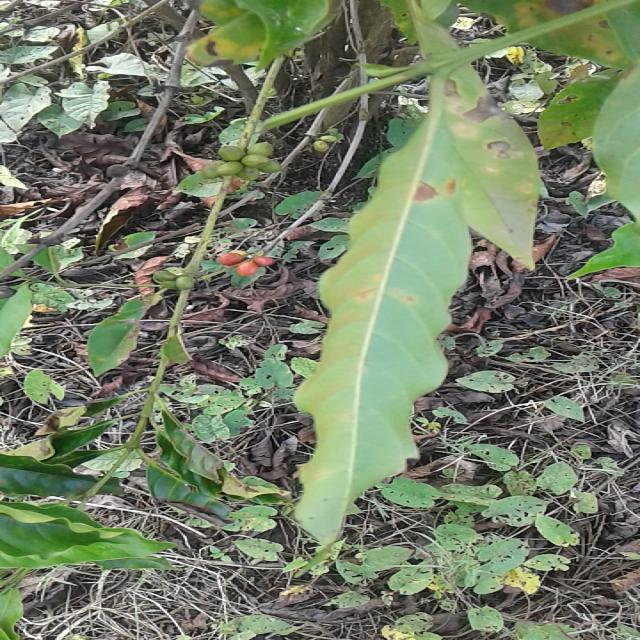Enfermedad-Roya: (293, 80, 473, 554)
